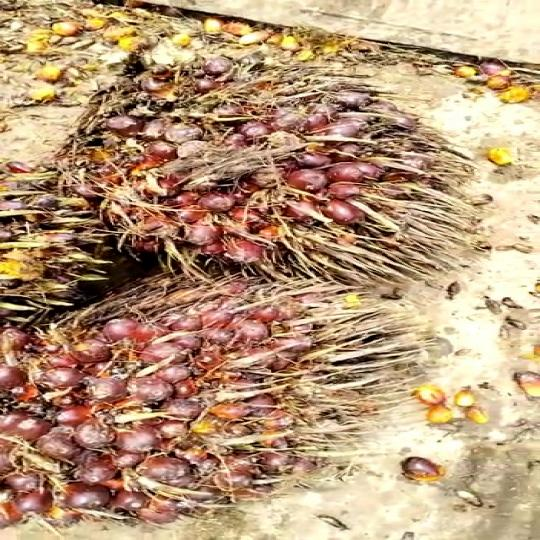masak: (0, 274, 411, 527), (50, 54, 460, 302)
